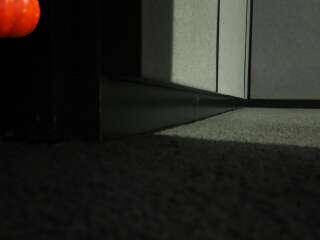Pumpkin: (0, 0, 40, 38)
